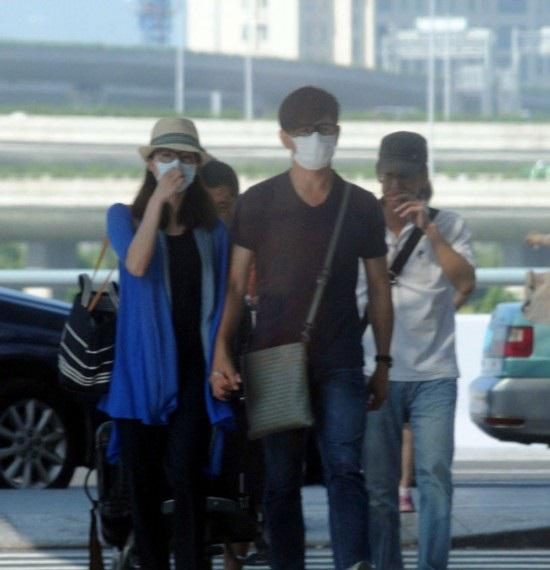NONE: (384, 165, 424, 204)
OK: (288, 111, 340, 171), (148, 141, 202, 195)
